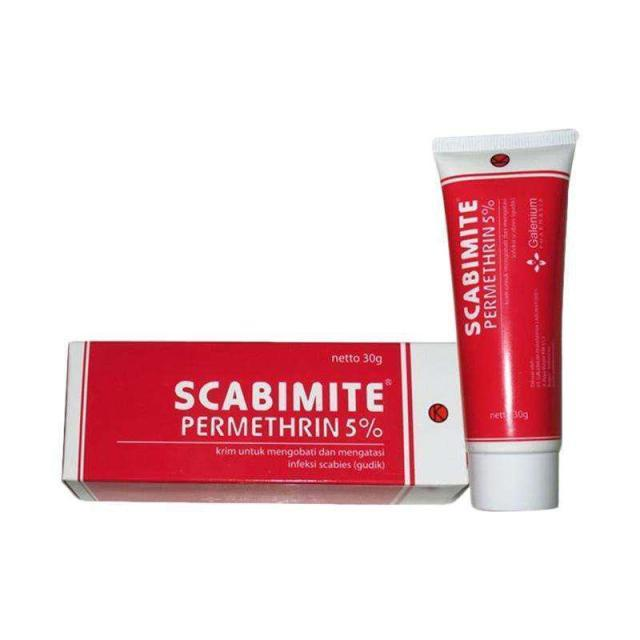drug-name: (171, 378, 386, 417)
